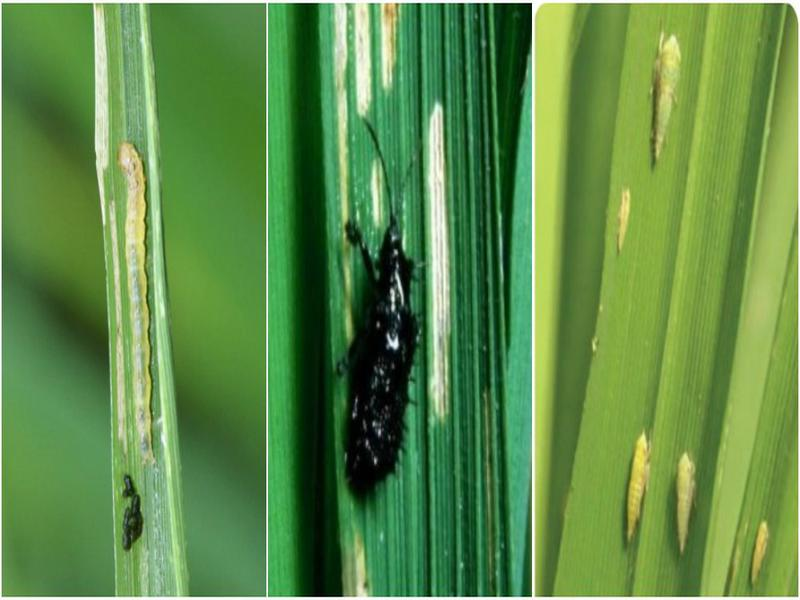Whorl_maggot: (106, 141, 181, 475), (327, 227, 419, 496), (622, 24, 705, 168), (612, 428, 703, 558)
